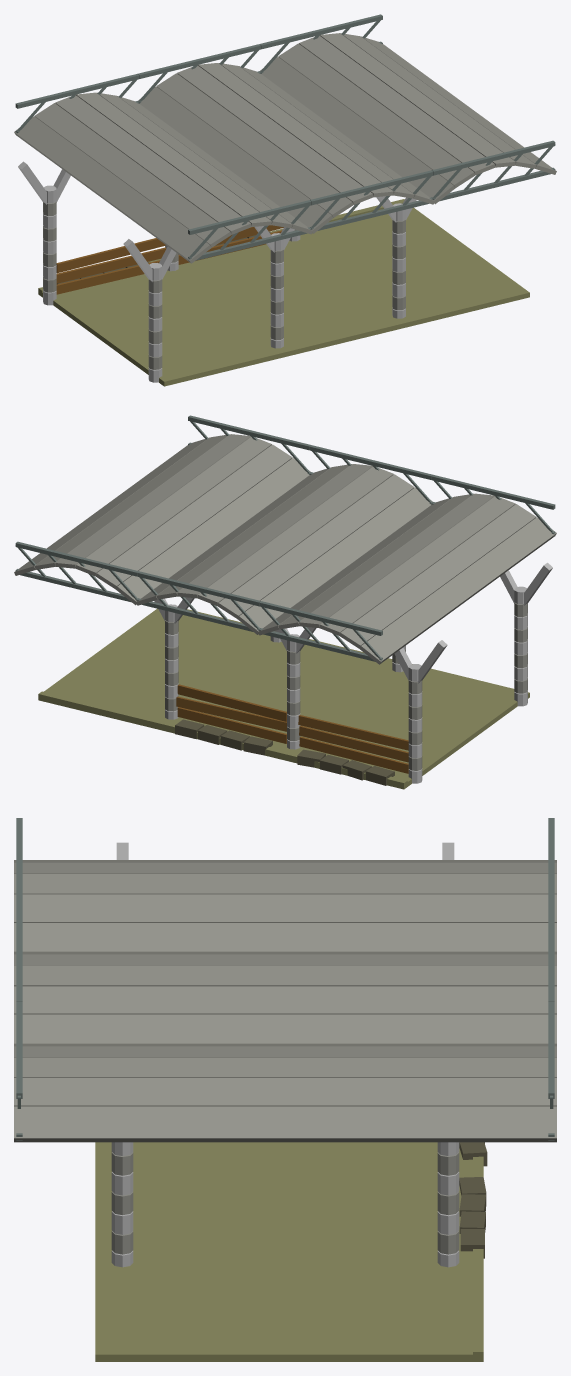
File: SM_MarquesinaBus_v2_Barricada_e0_Sano_LOD0.fbx
3 views of the same model, one above another, from view 1: azimuth 30°, elevation 25°; view 2: azimuth 150°, elevation 25°; view 3: azimuth 270°, elevation 25° (orthographic). The views are drawn at different scales.
Parts seen in each view (by area): view 1: SM_marquesina_bus_v8_LOD0; view 2: SM_marquesina_bus_v8_LOD0; view 3: SM_marquesina_bus_v8_LOD0.
Part boxes in pixels (bbox=[...]): SM_marquesina_bus_v8_LOD0: bbox=[14, 14, 556, 386]; SM_marquesina_bus_v8_LOD0: bbox=[14, 415, 556, 789]; SM_marquesina_bus_v8_LOD0: bbox=[14, 818, 556, 1361].
Bounding box in the file's own units: 13.02 × 5.46 × 10.
